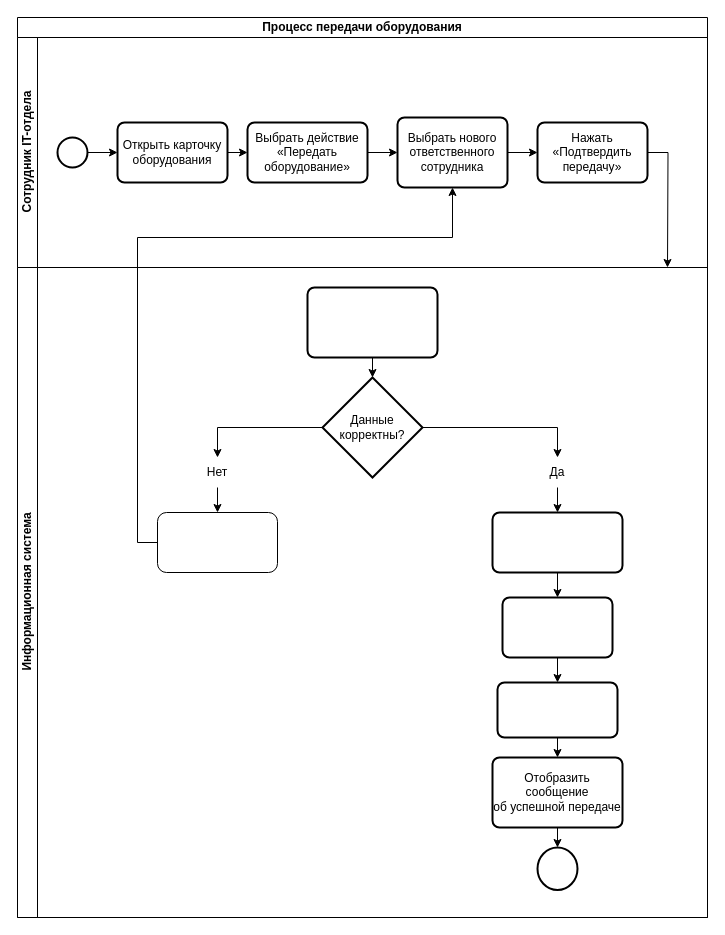
The diagram is 725 pixels wide and 935 high, and some of its shapes have lost their labels. Each missing label, with the centre of its shape:
"Записать действие в журнал" belongs at (x=557, y=709).
"Обновить сведения об ответственном сотруднике" belongs at (x=557, y=542).
"Отобразить сообщение об ошибке" belongs at (x=217, y=542).
"Проверить введенные данные" belongs at (x=372, y=322).
"Создать запись о передаче" belongs at (x=557, y=627).
